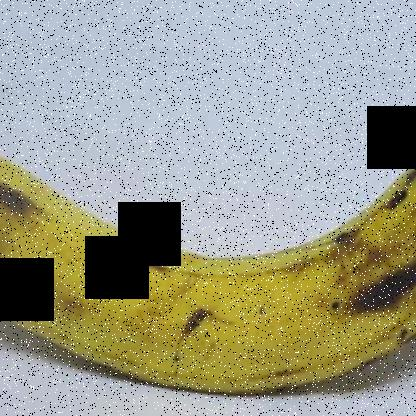ripe: (1, 101, 416, 415)
